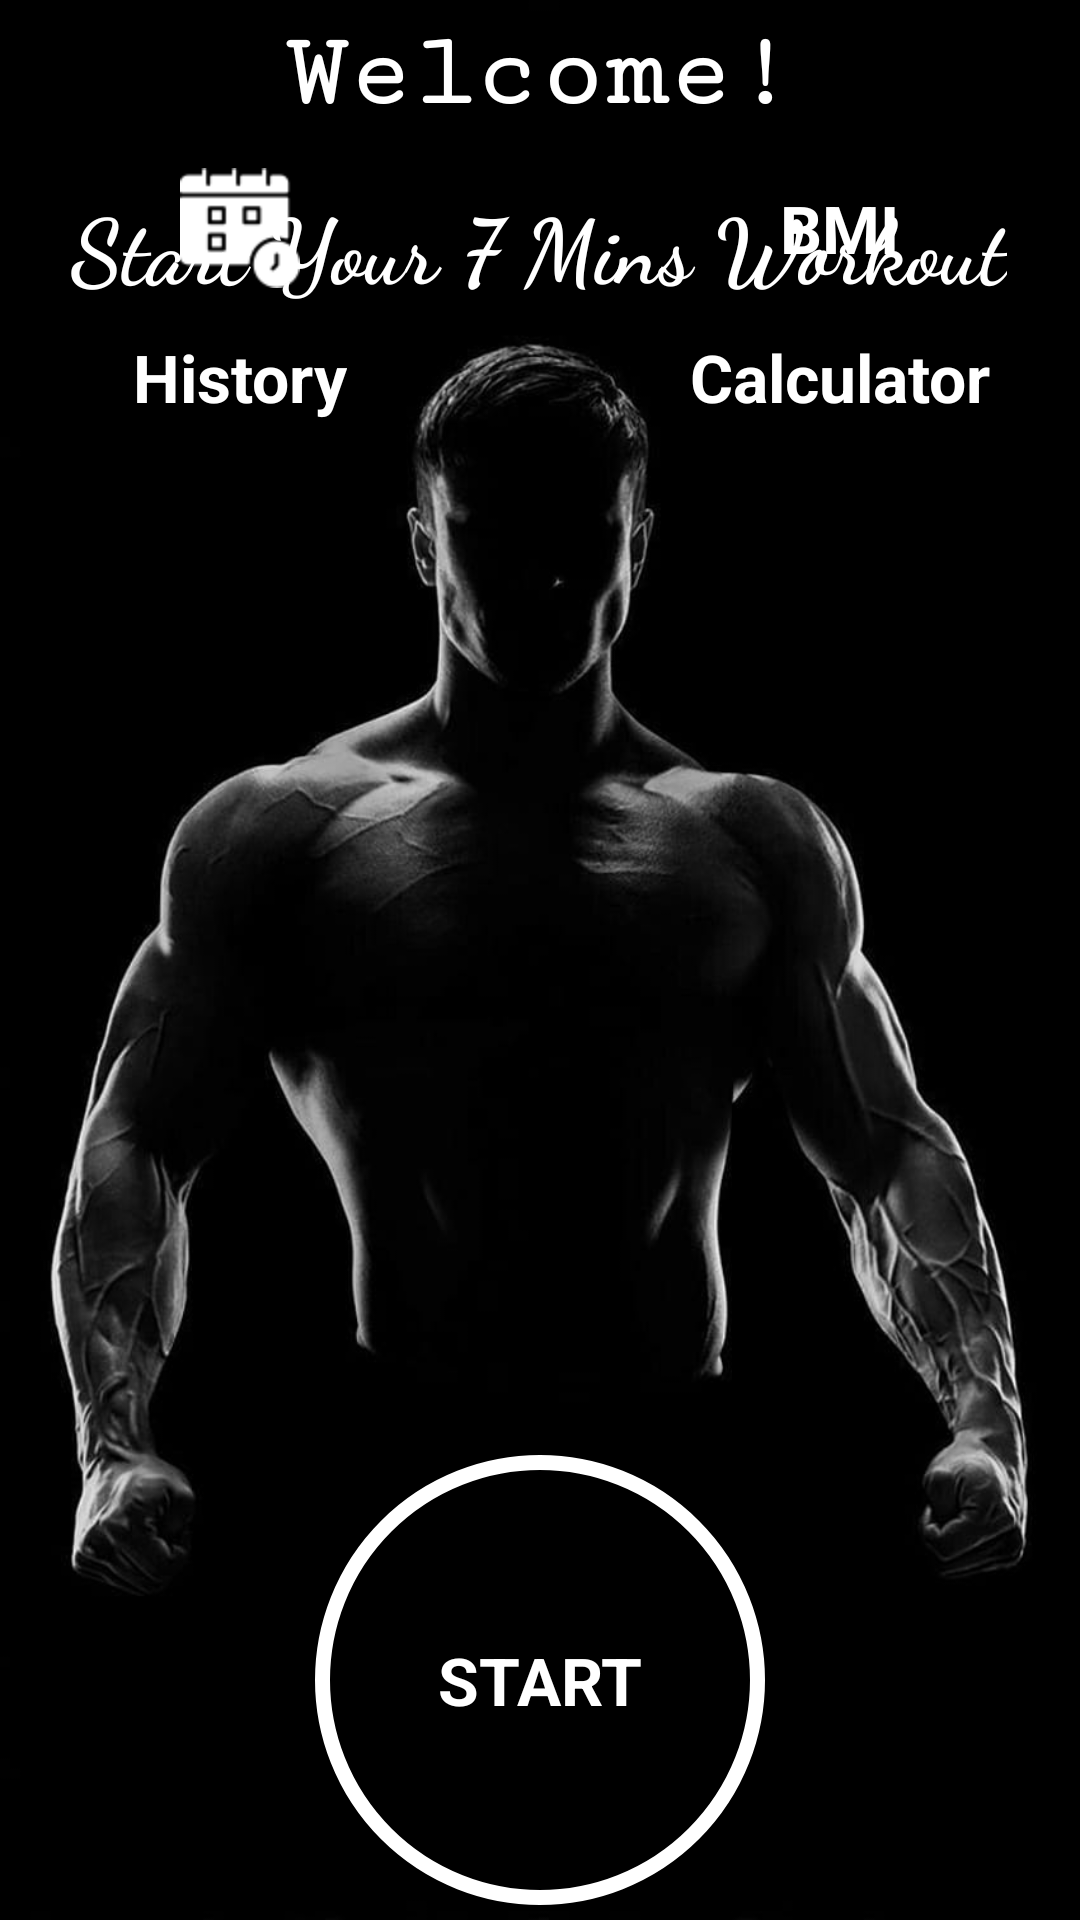

Where to tap for icons on this 1080w x 1920h app screen, as [x,y]:
calendar: [240,228]
